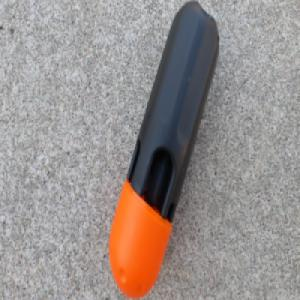PlasticPart: (107, 0, 220, 300)
